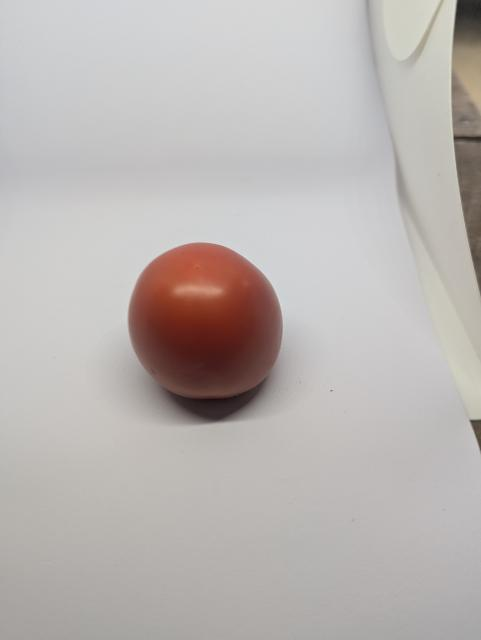red: (114, 236, 324, 415)
